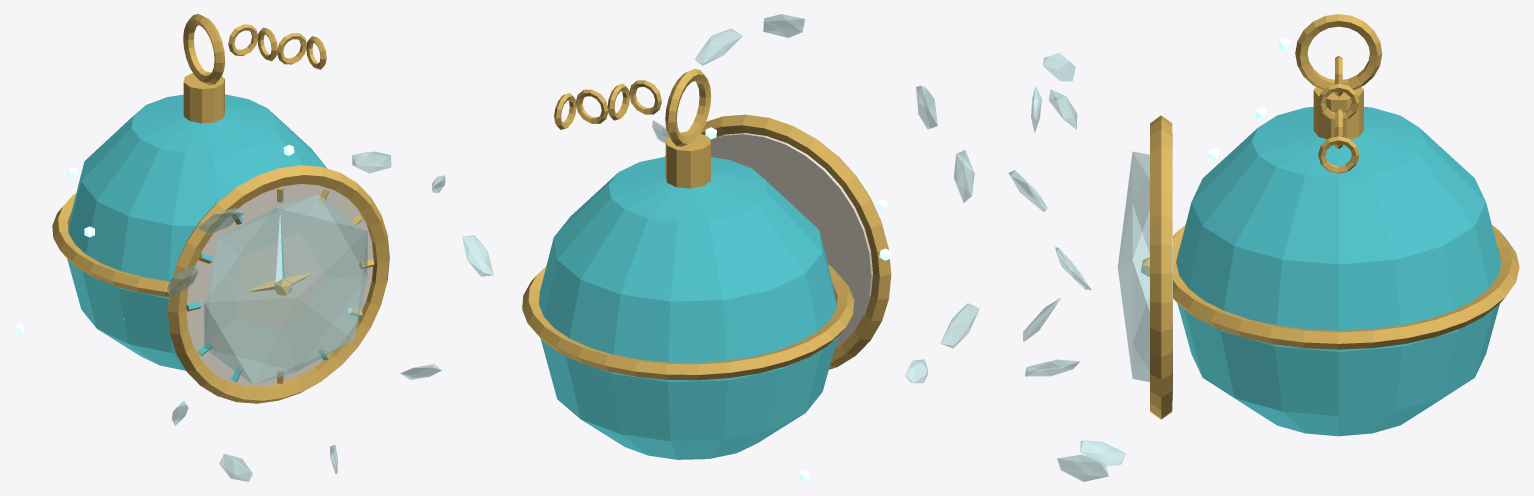
File: fruto-instante.glb
3 renders of one model, left to right at view 1: azimuth 30°, elevation 25°; view 2: azimuth 150°, elevation 25°; view 3: azimuth 270°, elevation 25°, orthographic. The views are drawn at different scales.
Parts seen in each view (by area): view 1: Fruit_Body; view 2: Fruit_Body; view 3: Fruit_Body.
Boxes of the visible parts, box(x1,y1,x2,y2) form: Fruit_Body: box(14, 14, 493, 481); Fruit_Body: box(522, 14, 979, 481); Fruit_Body: box(1008, 14, 1519, 481).
Size of the model in its own units: 1.3 by 1.49 by 1.53.
